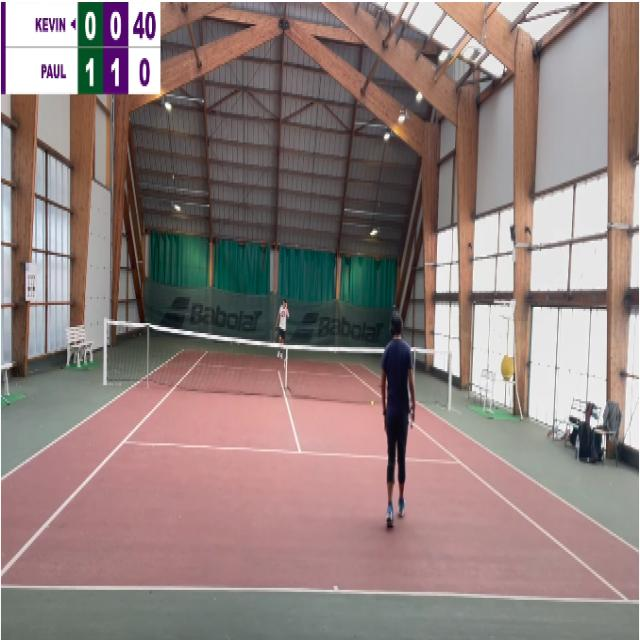ball: (371, 400, 374, 407)
